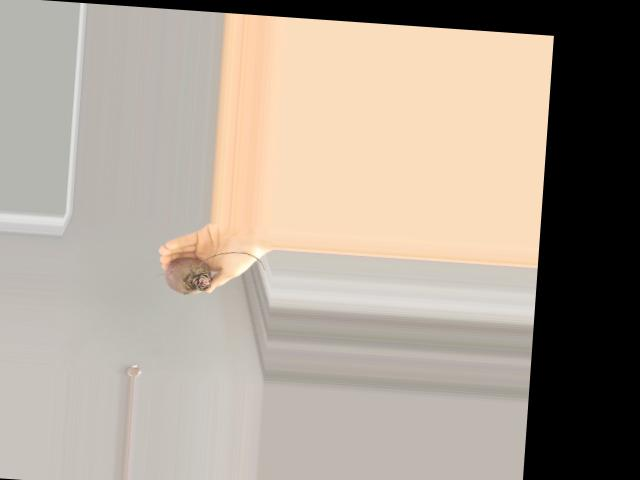beet: (151, 245, 264, 298)
